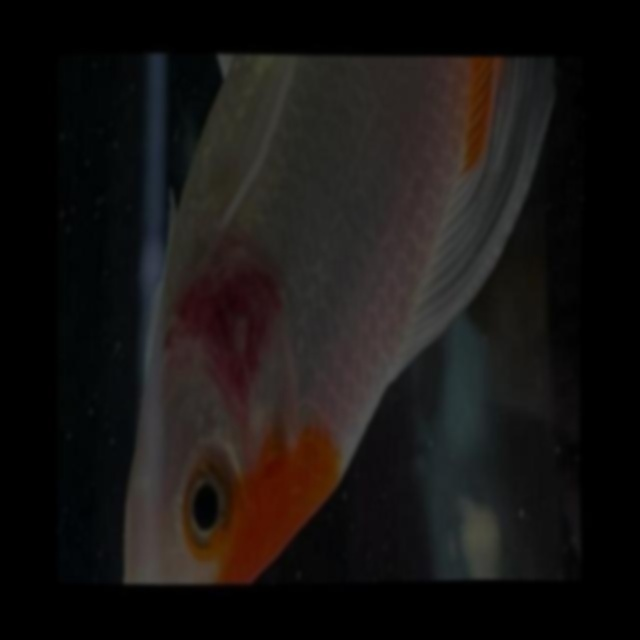Gill Disease: (107, 209, 367, 585)
